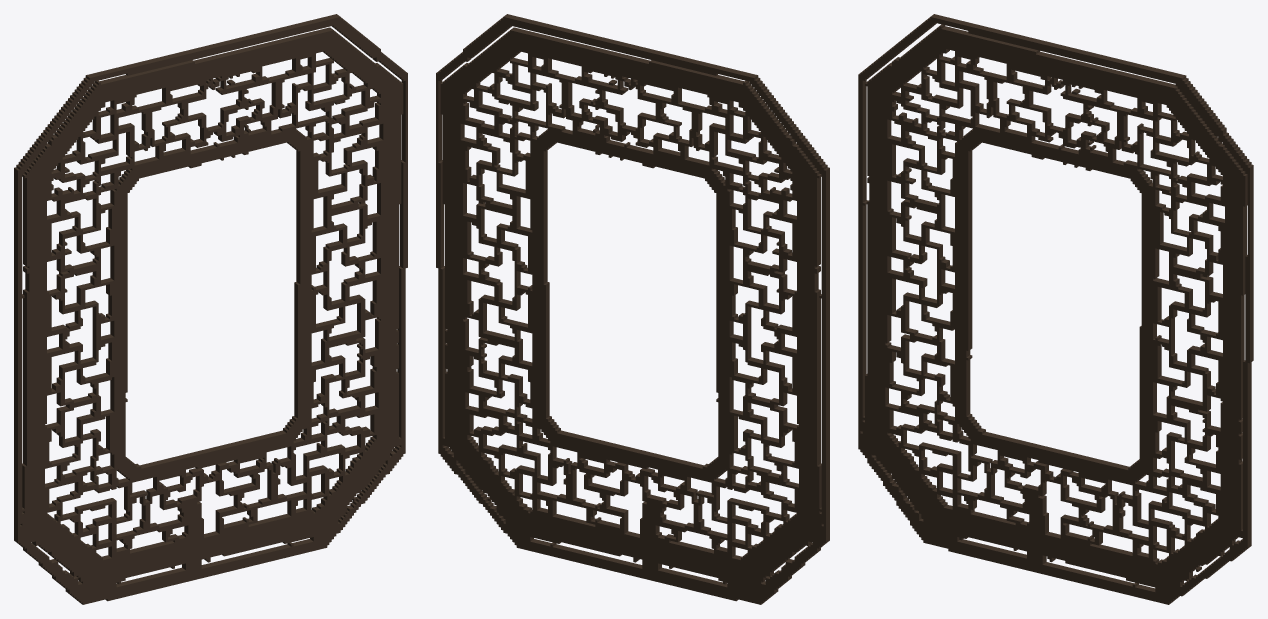
File: lattice_window.glb
The picture shows the model from 3 angles, left to right: view 1: azimuth 30°, elevation 25°; view 2: azimuth 150°, elevation 25°; view 3: azimuth 330°, elevation 25°; orthographic projection.
Visible parts, largest first — view 1: Lattice_Silhouette; view 2: Lattice_Silhouette; view 3: Lattice_Silhouette.
Part boxes in pixels (<box>): Lattice_Silhouette: <box>14,14,407,604</box>; Lattice_Silhouette: <box>436,14,829,604</box>; Lattice_Silhouette: <box>858,14,1253,604</box>.
Size of the model in its own units: 1.5 by 1.94 by 0.0261.
